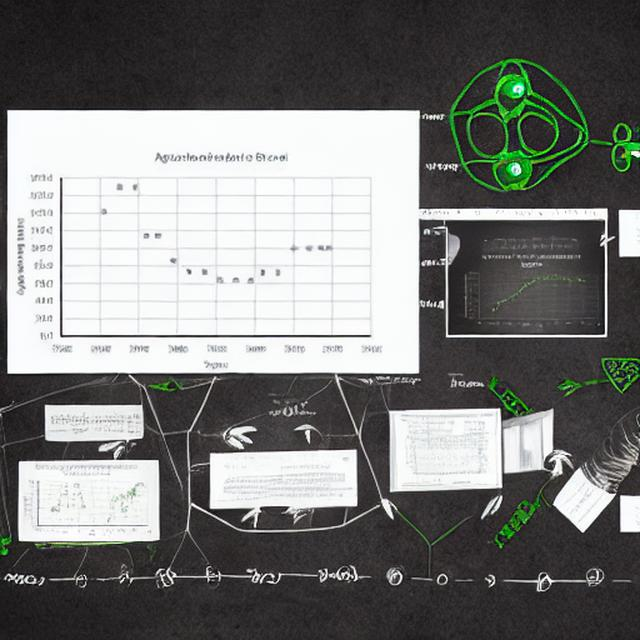Graph: (8, 146, 387, 372), (459, 250, 605, 335), (20, 461, 155, 539), (409, 447, 463, 479)
